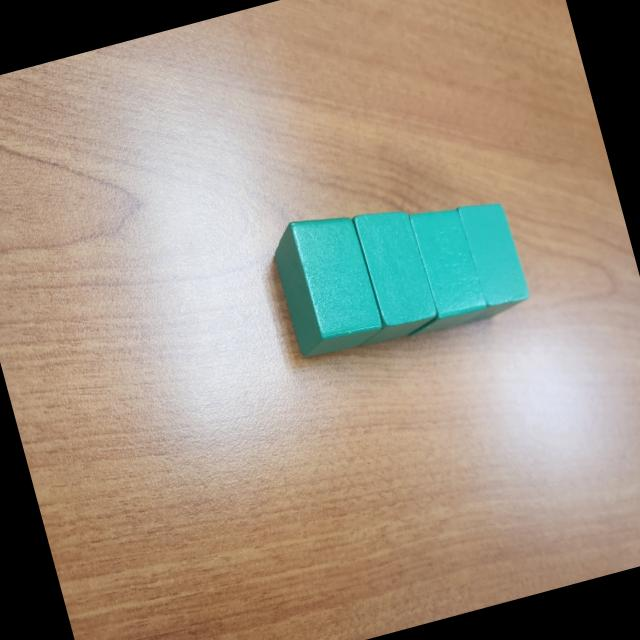green: (265, 204, 387, 364), (326, 200, 441, 350), (376, 200, 492, 345), (424, 194, 533, 328)
